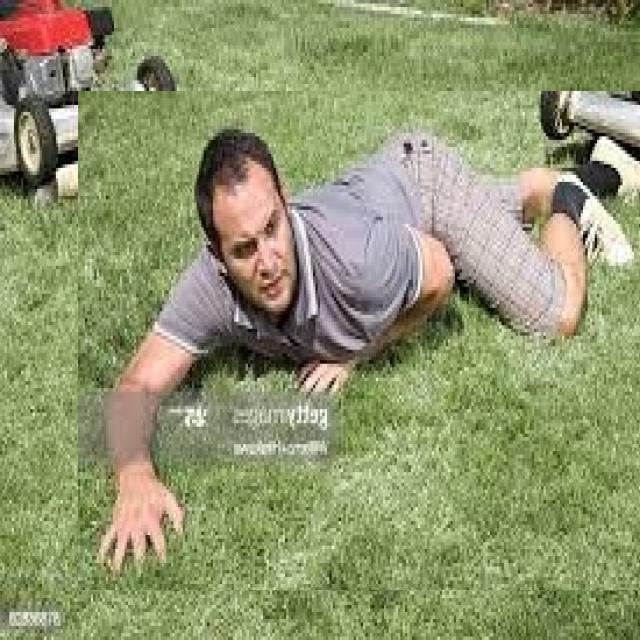Fall: (88, 76, 602, 640)
